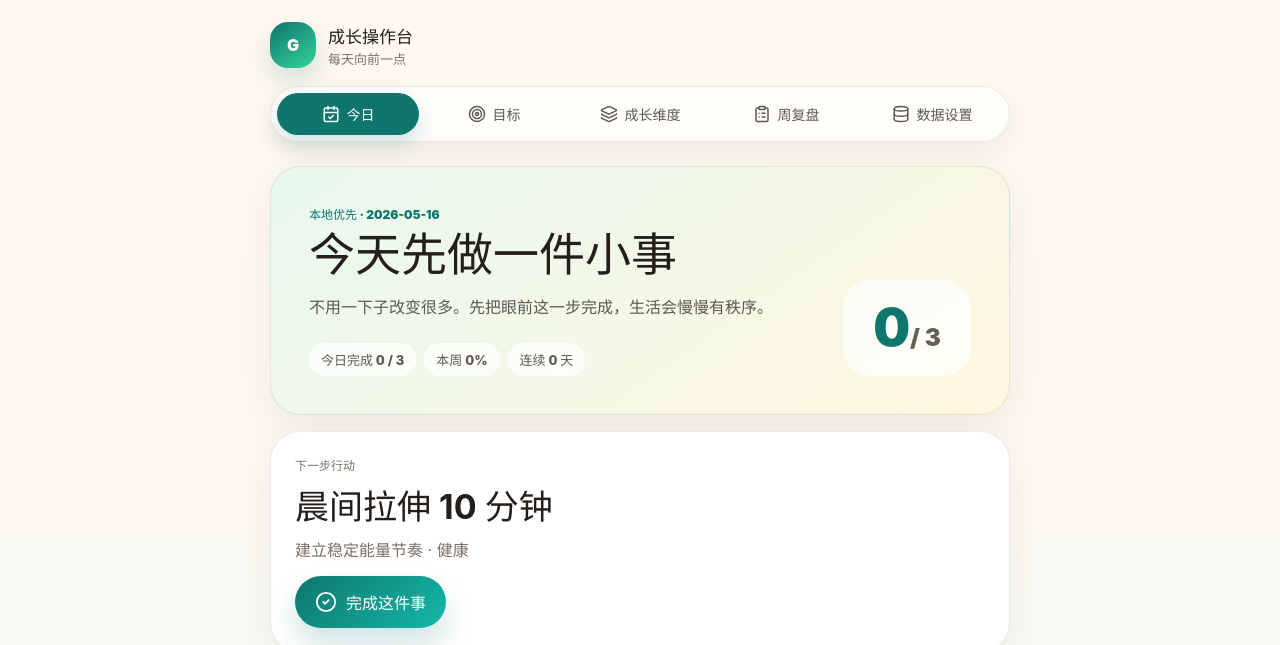
Test case: Growth OS app › uses consumer app navigation instead of a dashboard sidebar
The width and height of the screenshot is (1280, 645).
Click the button "目标".
click(494, 114)  # box [423,93,565,135]
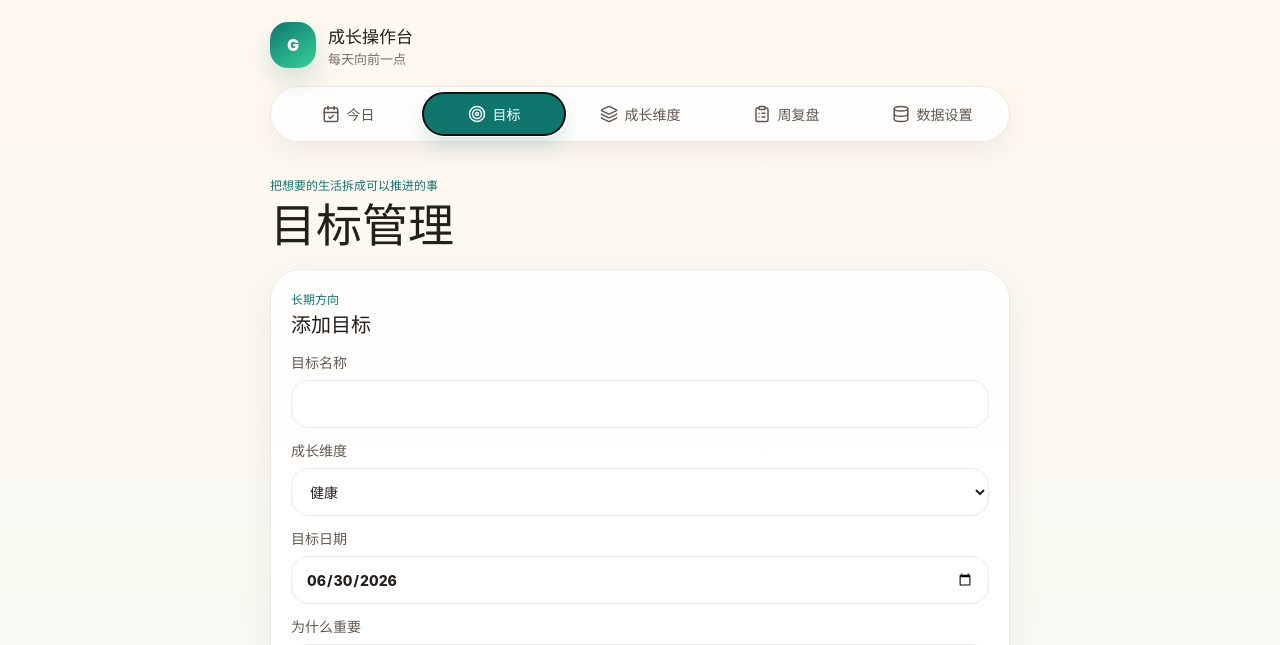
Check: the heading "目标管理" is shown, box [270,197,454,253]
